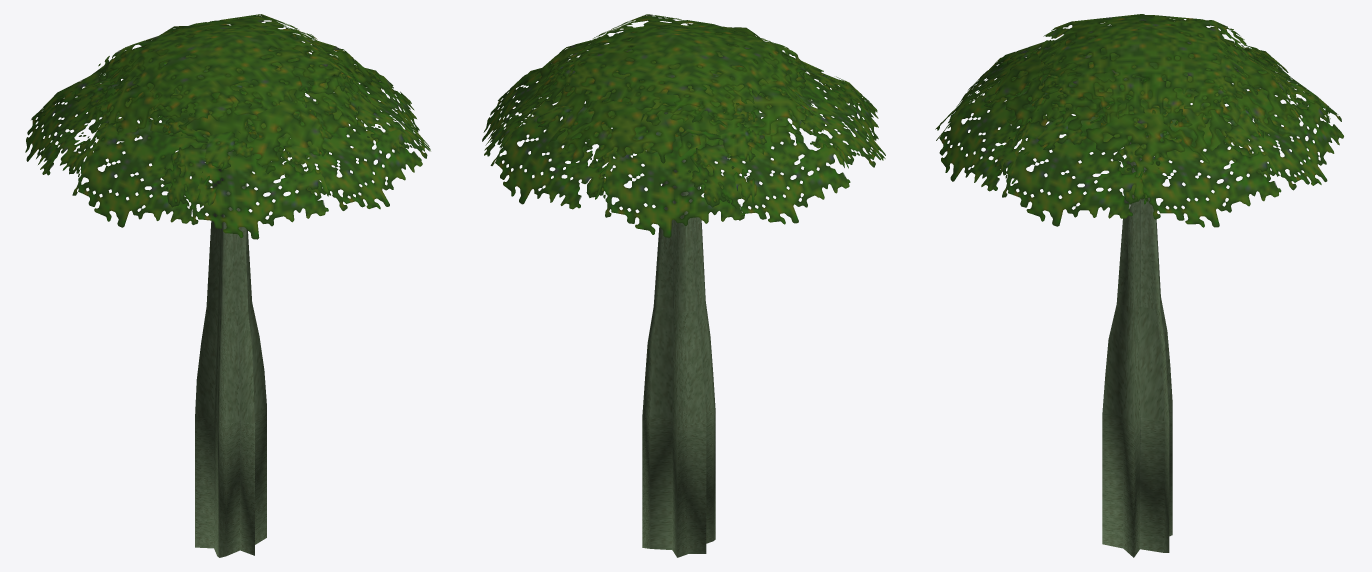
Rendered from kapok_tree_3_2.dae.
The picture shows the model from 3 angles, left to right: view 1: azimuth 30°, elevation 25°; view 2: azimuth 150°, elevation 25°; view 3: azimuth 270°, elevation 25°; orthographic projection.
Visible parts, largest first — view 1: Plane.001; view 2: Plane.001; view 3: Plane.001.
Boxes of the visible parts, left/top/right/bottom form: Plane.001: left=25, top=14, right=430, bottom=557; Plane.001: left=482, top=14, right=885, bottom=557; Plane.001: left=935, top=14, right=1343, bottom=557.
Size of the model in its own units: 0.7469 by 0.7495 by 0.964.
Materials: 1 (1 with a texture image).
